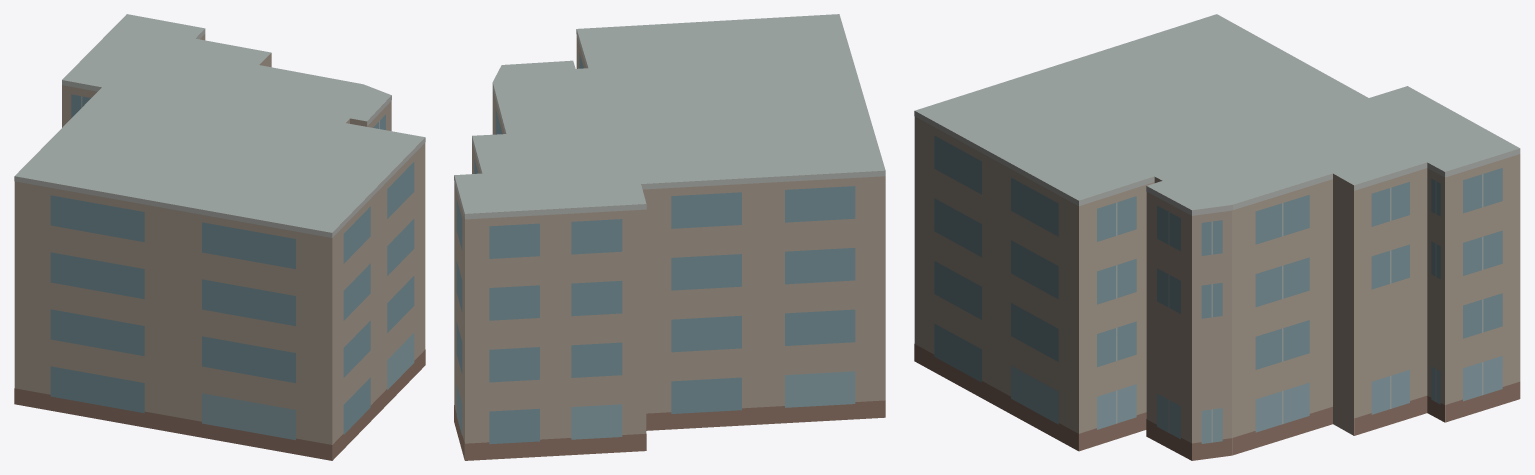
File: survey-upis-32674387.glb
The picture shows the model from 3 angles, left to right: view 1: azimuth 30°, elevation 25°; view 2: azimuth 150°, elevation 25°; view 3: azimuth 270°, elevation 25°; orthographic projection. The views are drawn at different scales.
Parts seen in each view (by area): view 1: survey-upis-32674387.tmp; view 2: survey-upis-32674387.tmp; view 3: survey-upis-32674387.tmp.
Part boxes in pixels (left/top/right/bottom): survey-upis-32674387.tmp: left=14, top=14, right=425, bottom=460; survey-upis-32674387.tmp: left=454, top=14, right=885, bottom=460; survey-upis-32674387.tmp: left=914, top=14, right=1520, bottom=460.
Size of the model in its own units: 18.35 by 10.92 by 23.93.
